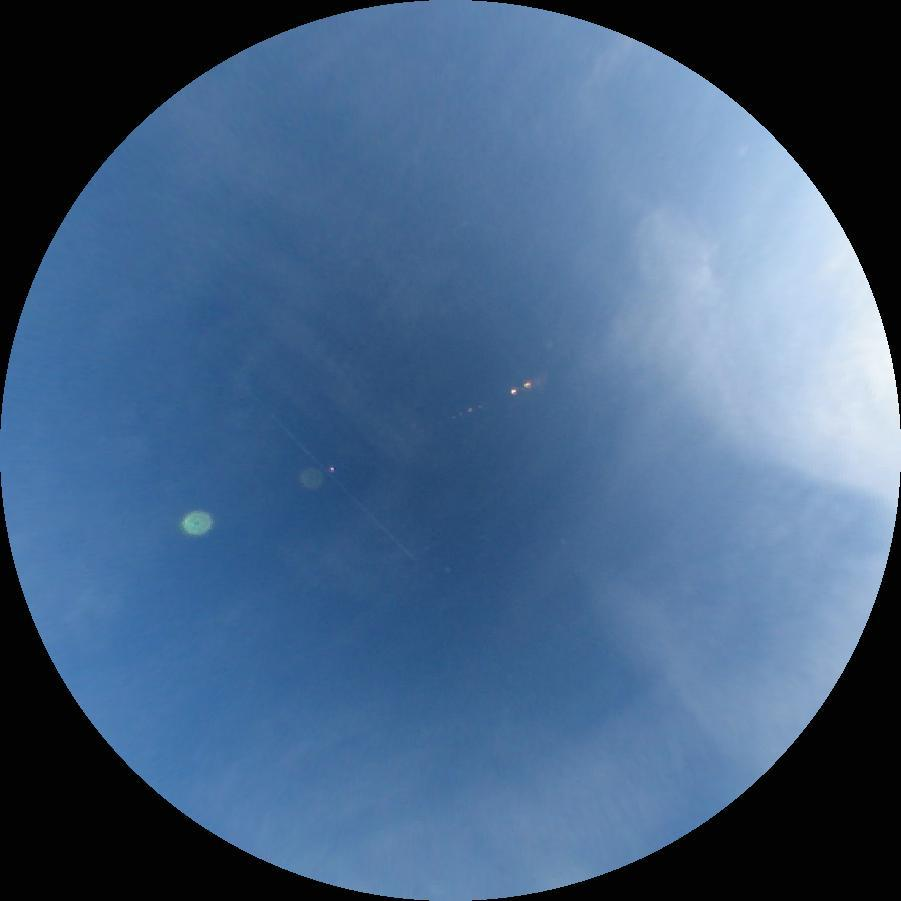contrail young: (240, 384, 419, 563)
